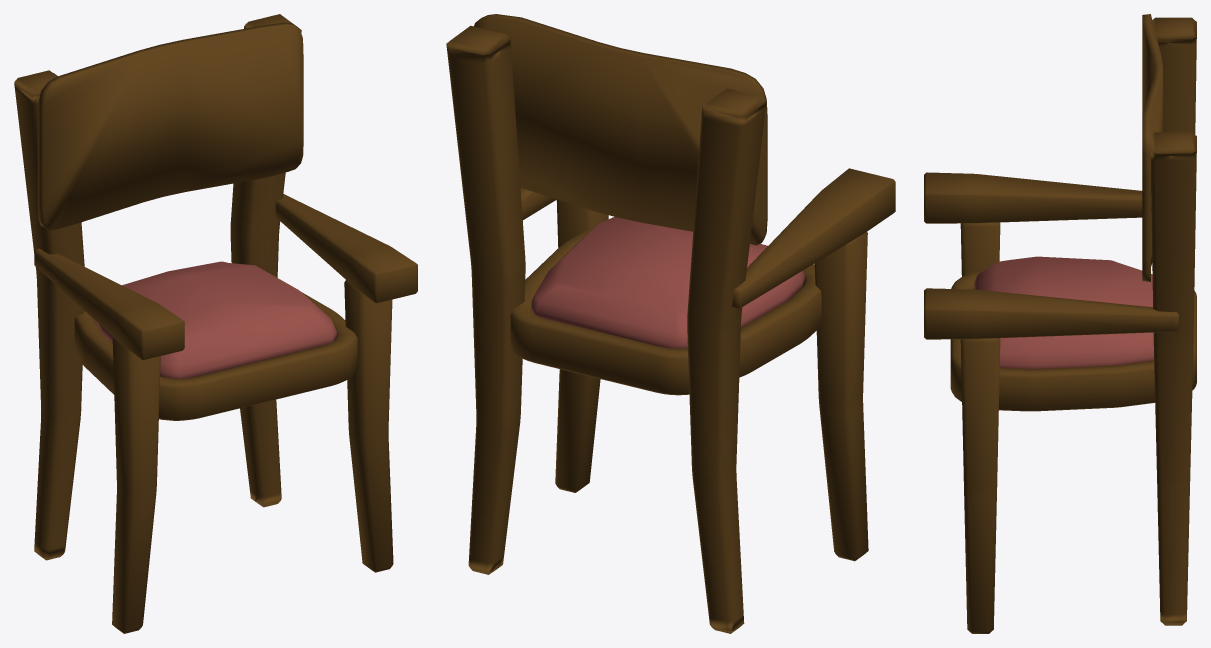
The model's file is silla.fbx.
The picture shows the model from 3 angles, left to right: view 1: azimuth 30°, elevation 25°; view 2: azimuth 150°, elevation 25°; view 3: azimuth 270°, elevation 25°; orthographic projection. The views are drawn at different scales.
Parts seen in each view (by area): view 1: Silla.001; view 2: Silla.001; view 3: Silla.001.
Part boxes in pixels (x1,y1,x2,y2): Silla.001: [14, 14, 417, 633]; Silla.001: [446, 14, 895, 633]; Silla.001: [924, 14, 1196, 633].
Size of the model in its own units: 56.6 by 95.47 by 47.4.
